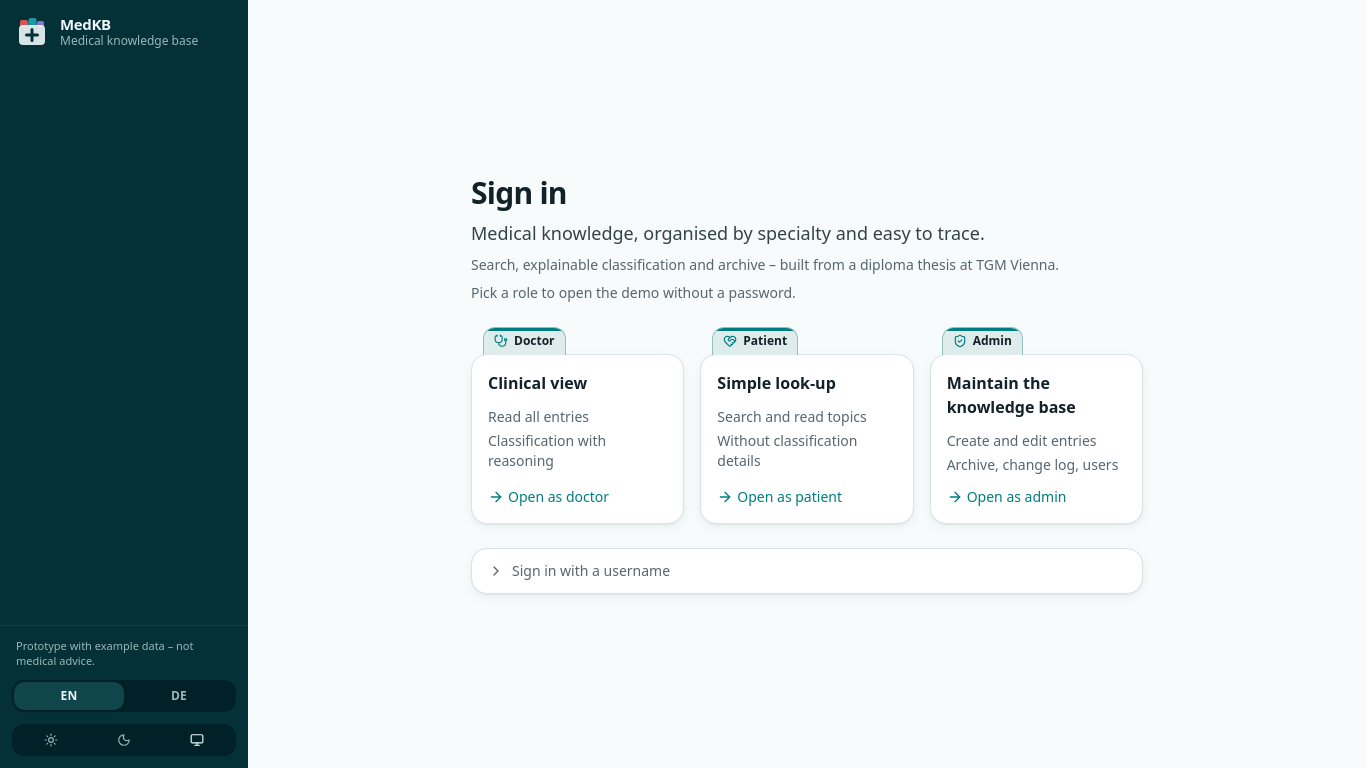
Test case: switches the login page to German
Expected: the button named "Open as doctor" is shown, [471, 326, 684, 524]
Click the button with aria-label "German": point(179, 696) [124, 682, 234, 710]
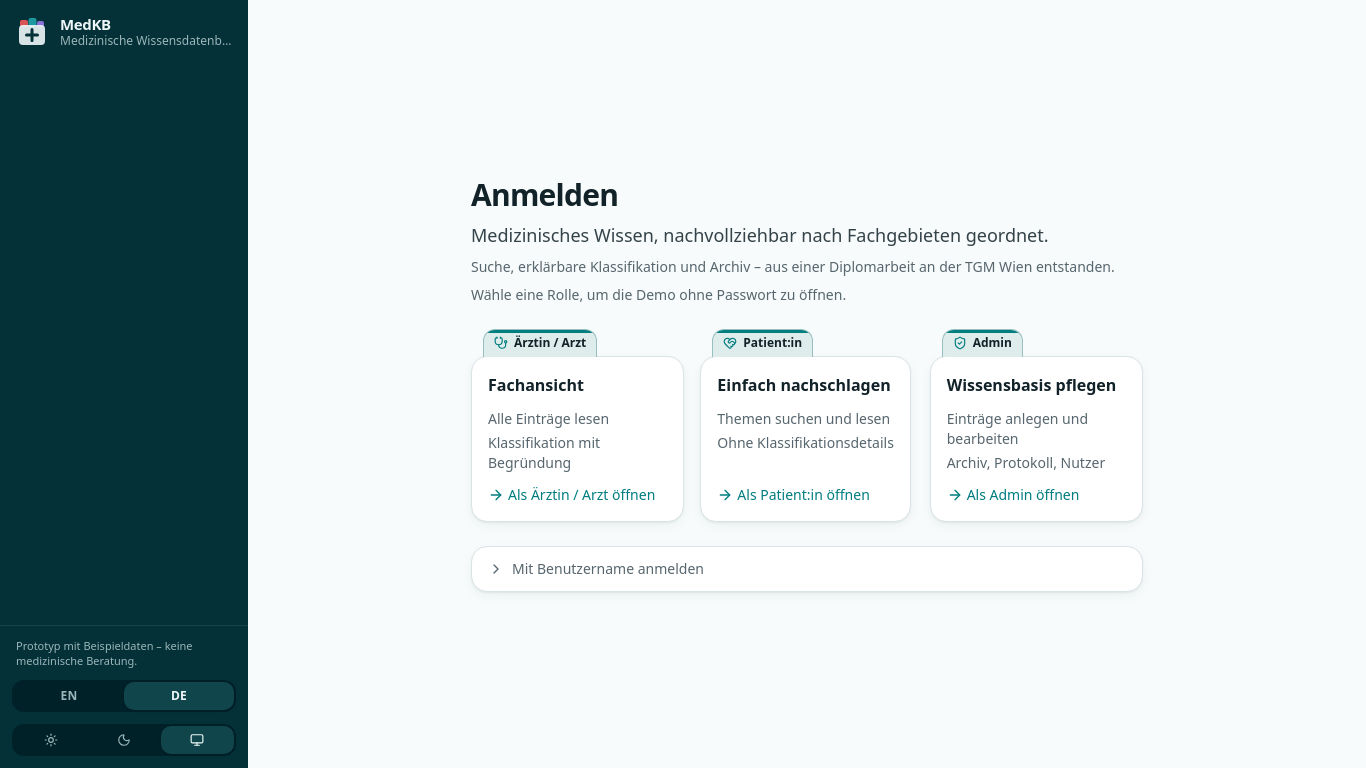
Expected: the heading "Anmelden" is shown, [471, 174, 618, 214]
Expected: the button named "Als Ärztin / Arzt öffnen" is shown, [471, 328, 684, 522]
